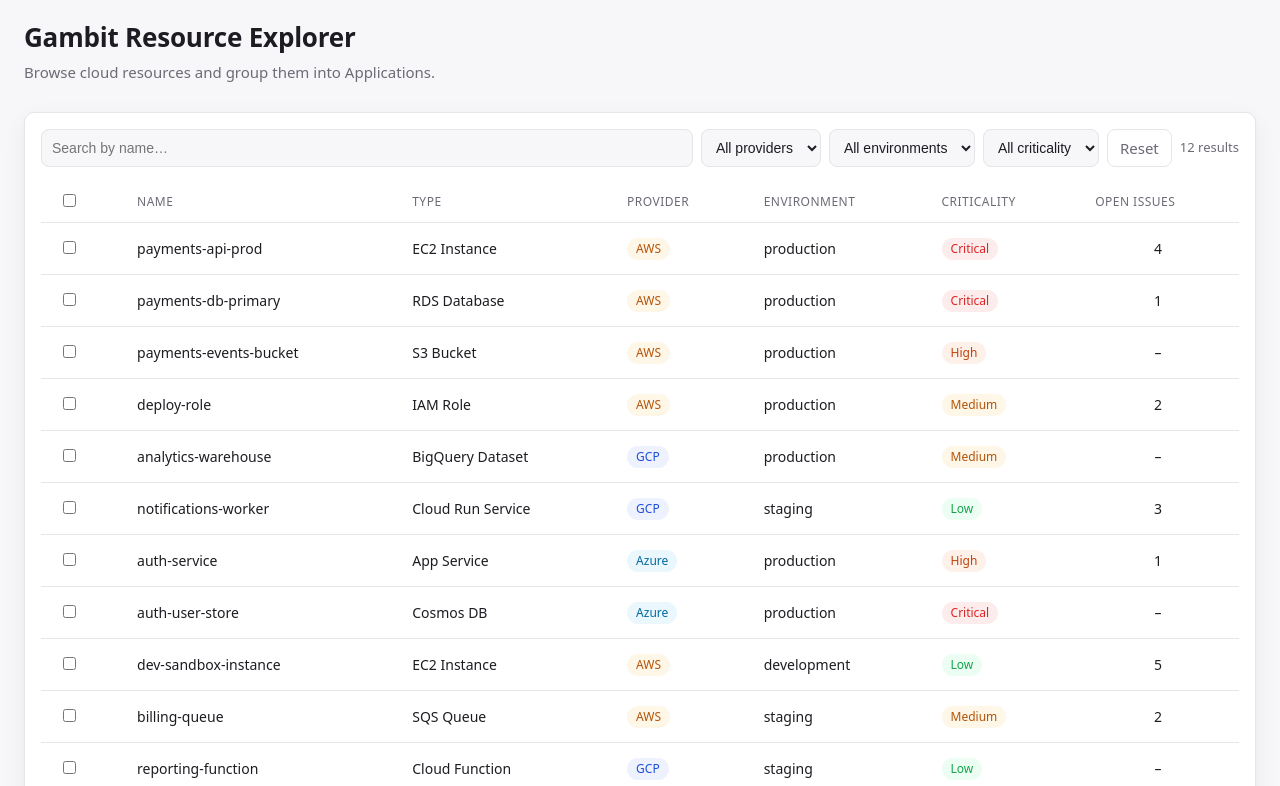
Scenario: Gambit Resource Explorer - main flows › selects resources and groups them into an Application
Step 1. Click the checkbox named "Select payments-api-prod" → (70, 248), box [63,241,76,254]
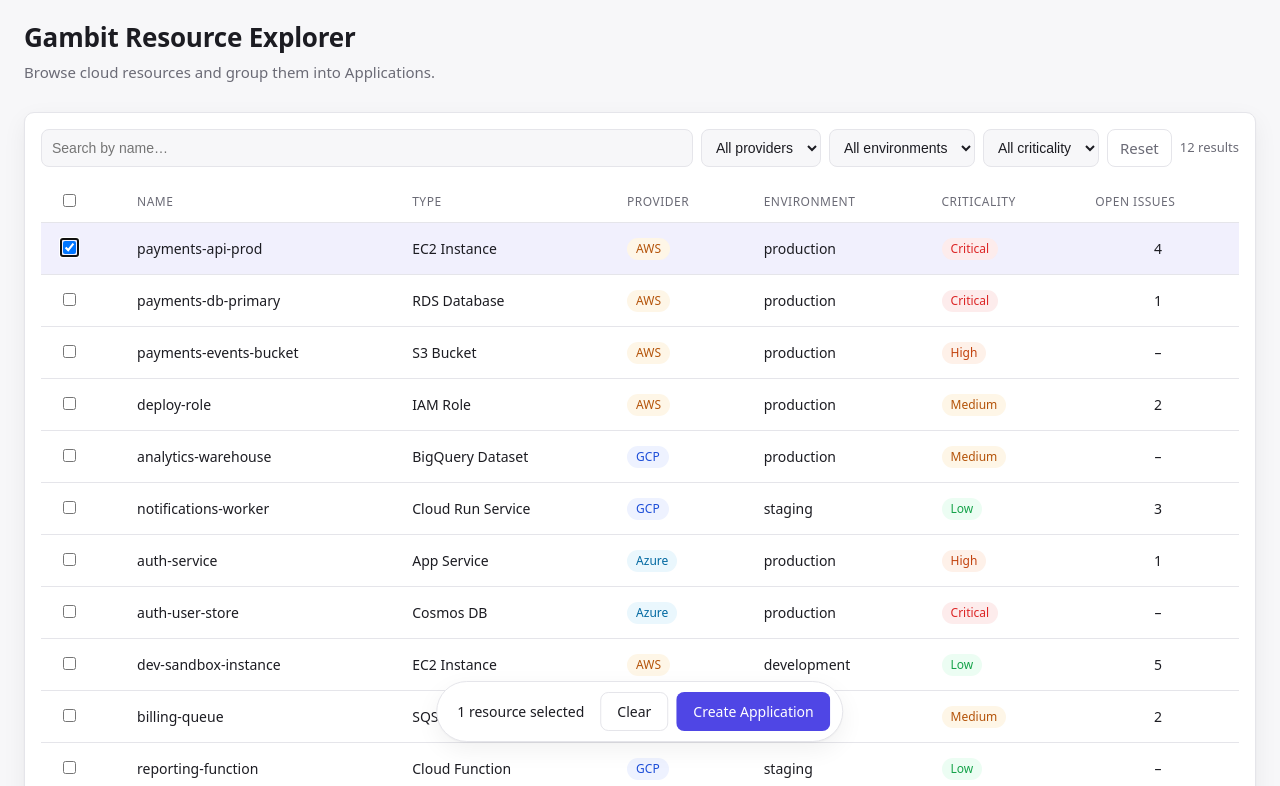
Step 2. Click the checkbox named "Select payments-db-primary" → (70, 300), box [63,293,76,306]
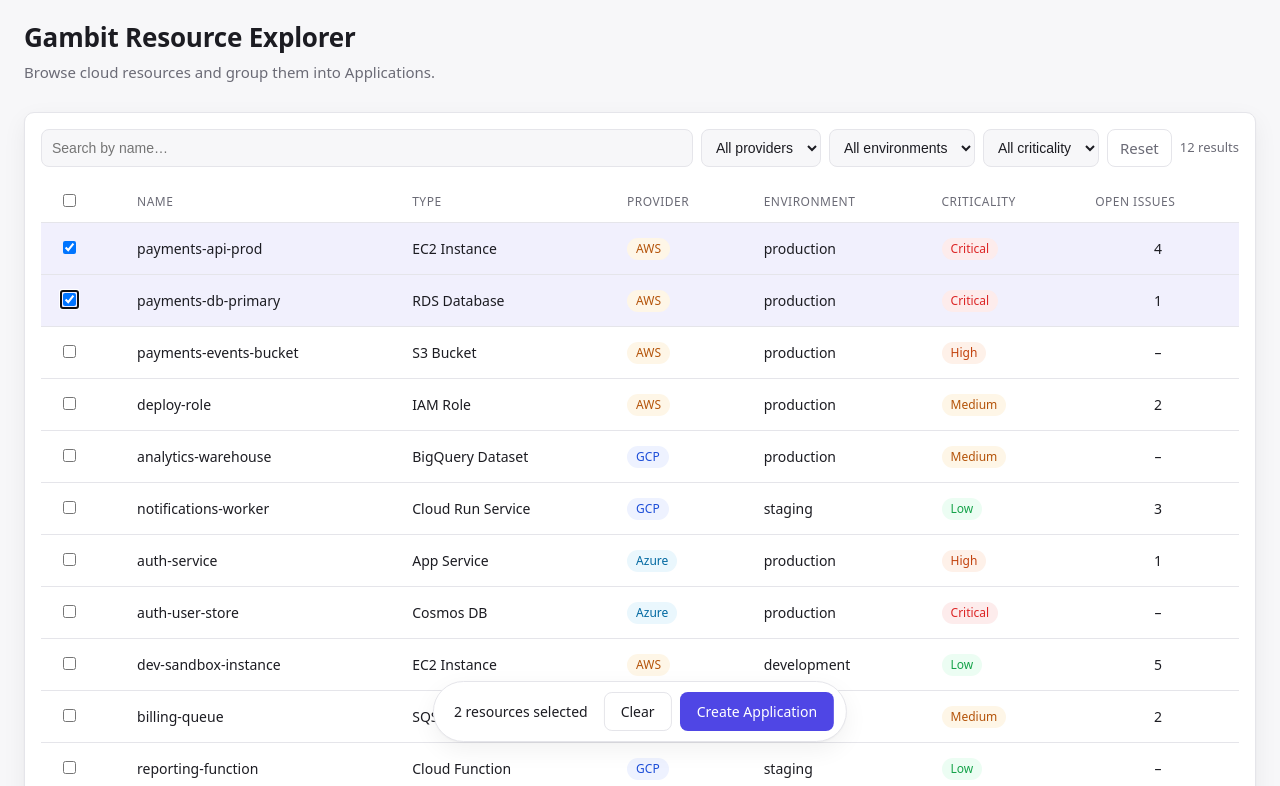
Now the text "2 resources selected" is shown, box [454,701,588,722]
Step 3. Click the button "Create Application" → (757, 712), box [680,692,834,731]
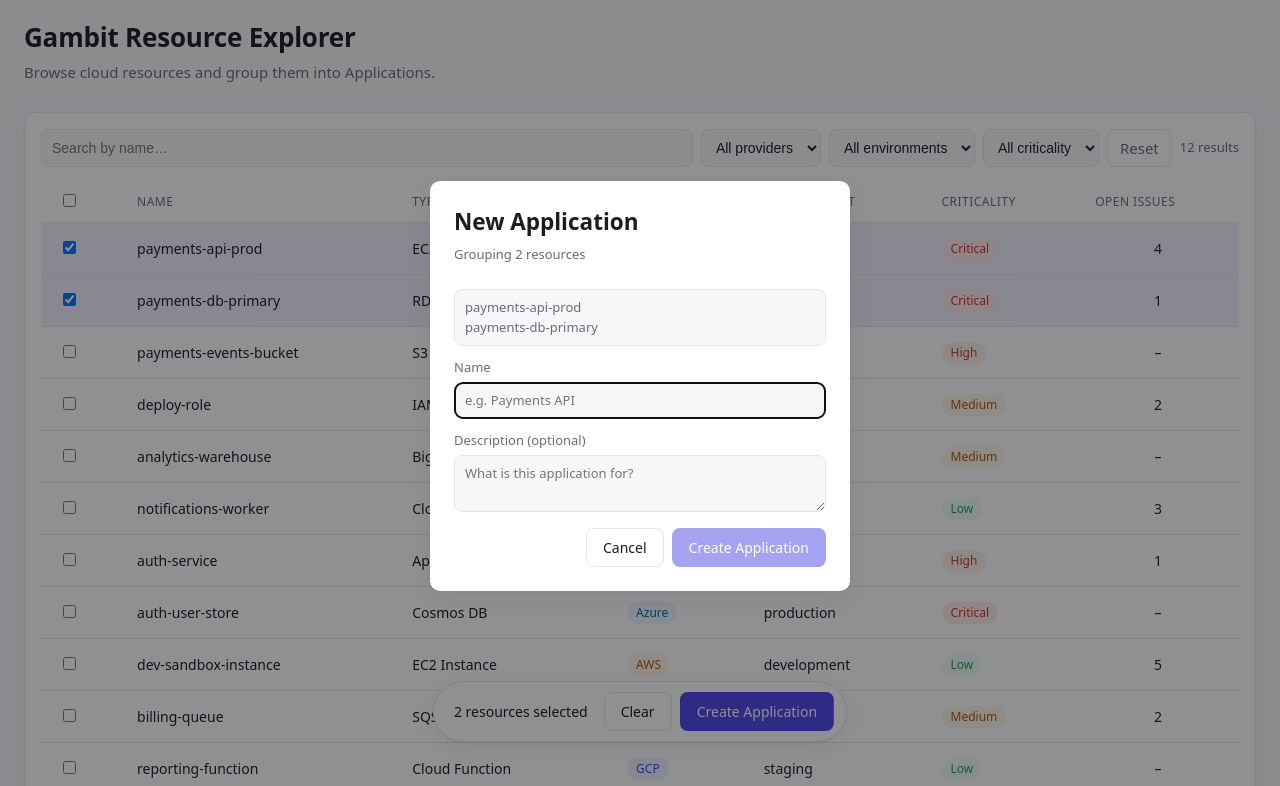
Step 4. Type "Payments Core" into the field labelled "Name" → (640, 401), box [454,382,826,419]
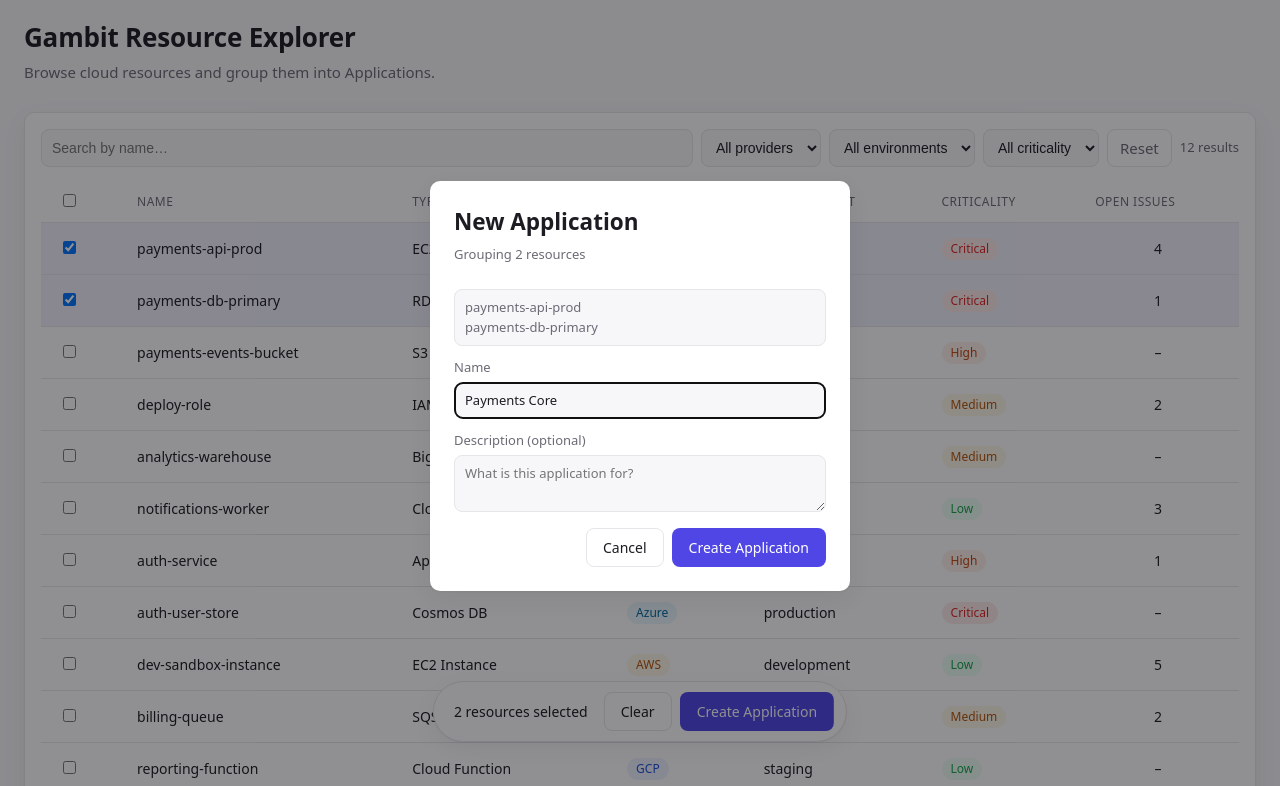
Step 5. Click the button "Create Application" → (749, 547), box [672,528,826,567]
(page scrolled)
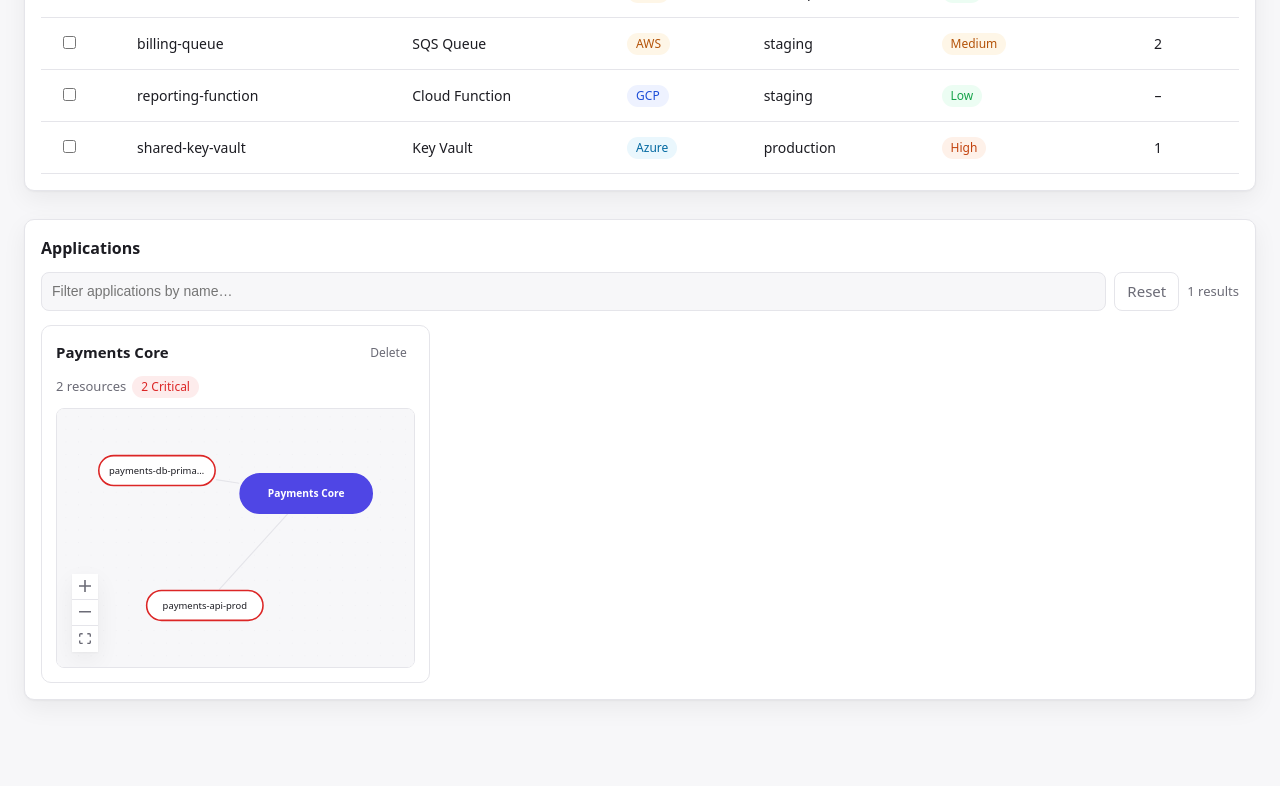
Now the text "2 resources" is shown, box [56,377,126,396]
Now the heading "Payments Core" is shown, box [56,341,168,364]
Now the text "2 Critical" is shown, box [132,376,199,398]
